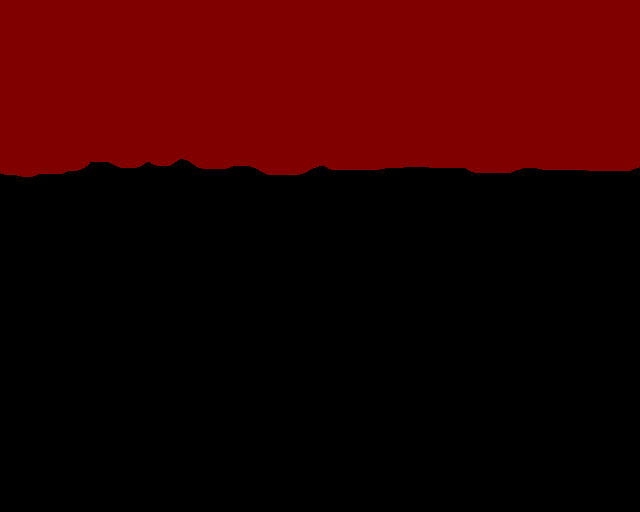Sky: (1, 1, 639, 177)
